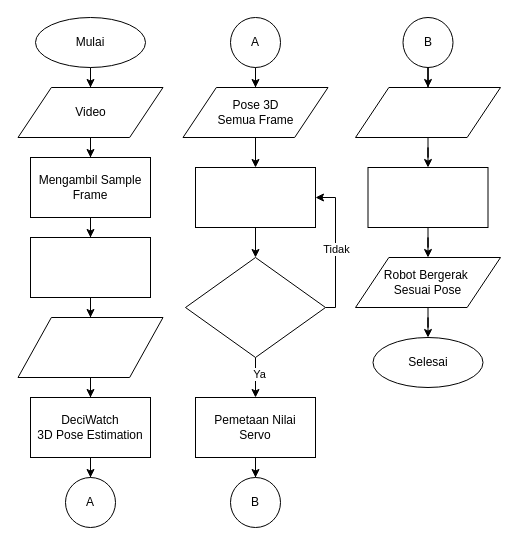
Image size: 518x545. Some labels were removed from this diagram. The centre of each missing label's shape, as x and y in pixels:
Apakah dalam area pergerakan robot?: the point at 255,307
Inverse Kinematic(IK) pada 3D Pose: the point at 255,197
Pengiriman data menggunakan ROS: the point at 427,197
Pose 3D Sample Frame: the point at 90,347
Pose Estimation 3D: the point at 90,267
Sudut Servo: the point at 427,112
